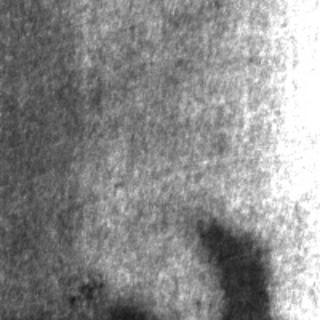patches: (194, 222, 268, 318)
